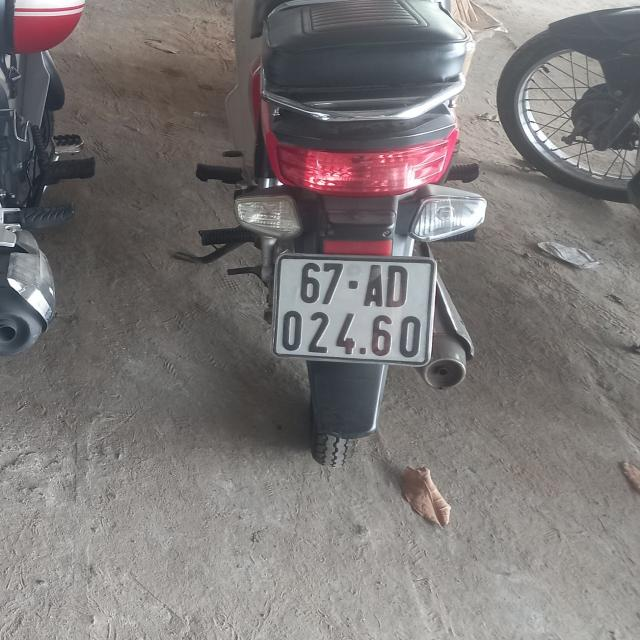0: (400, 316, 420, 359), (283, 311, 302, 351)
2: (309, 312, 329, 356)
4: (336, 313, 357, 355)
6: (372, 314, 392, 356), (302, 262, 321, 304)
7: (322, 263, 343, 305)
A: (364, 265, 384, 308)
D: (386, 265, 408, 309)
